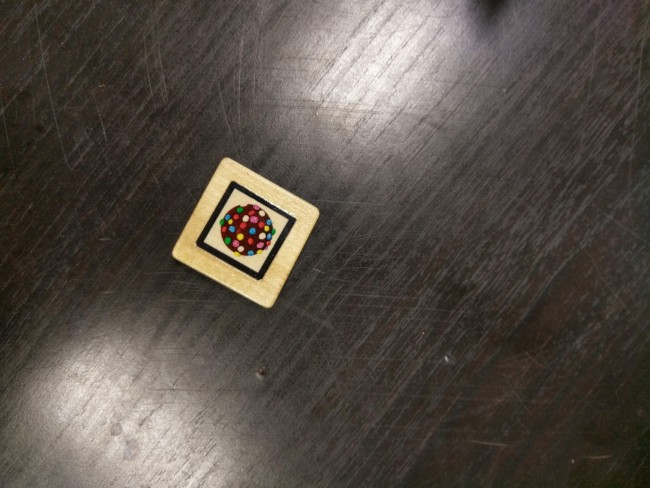cookie: (193, 181, 298, 284)
